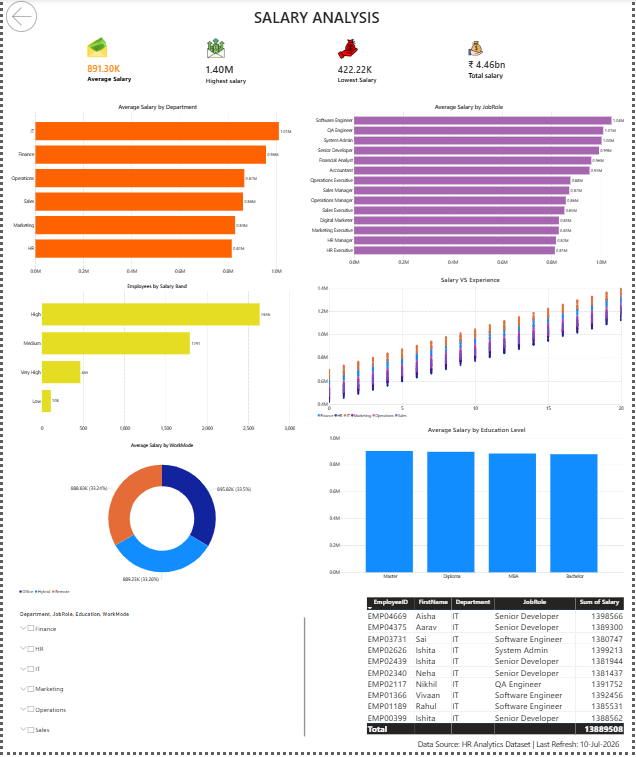

What the dashboard file says about the page in this screenshot:
{"tool":"powerbi","page":{"name":"Salary Analysis","canvas":[4000,4800],"ordinal":2},"visuals":[{"type":"textbox","box":[604,47,2792,173.9],"z":0},{"type":"cardVisual","fields":{"Data":["Employees.Average Salary"]},"box":[510.4,223.3,569.3,348.7],"z":0,"group":"g1"},{"type":"group","id":"g1","title":"Group 1","box":[510.4,221,2979.1,360.1],"z":1000},{"type":"cardVisual","fields":{"Data":["Employees.Highest salary"]},"box":[1260.5,234.1,571.9,347],"z":1000,"group":"g1"},{"type":"cardVisual","fields":{"Data":["Employees.Lowest Salary"]},"box":[2101.2,231,567,347],"z":2000,"group":"g1"},{"type":"clusteredBarChart","fields":{"Category":["Employees.Department"],"Y":["Employees.Average Salary"]},"box":[34.2,664.8,1891.6,1099.8],"z":2000},{"type":"cardVisual","fields":{"Data":["Employees.Total salary"]},"box":[2920.5,221,569,351.9],"z":3000,"group":"g1"},{"type":"clusteredBarChart","fields":{"Category":["Employees.JobRole"],"Y":["Employees.Average Salary"]},"box":[1925.9,664.8,2072.5,1041.1],"z":3000},{"type":"clusteredBarChart","title":"Employees by Salary Band","fields":{"Category":["Employees.SalaryBand"],"Y":["CountNonNull(Employees.EmployeeID)"]},"box":[92.9,1818.3,1769.5,953.2],"z":4000},{"type":"scatterChart","title":"Salary VS Experience","fields":{"Series":["Employees.Department"],"Category":["Employees.EmployeeID"],"X":["Sum(Employees.Experience)"],"Y":["Sum(Employees.Salary)"]},"box":[1994.3,1764.6,1960.1,914.1],"z":5000},{"type":"tableEx","fields":{"Values":["Employees.EmployeeID","Employees.FirstName","Employees.Department","Employees.JobRole","Sum(Employees.Salary)"]},"box":[2307.1,3807.7,1647.3,992.3],"z":6000},{"type":"columnChart","title":"Average Salary by Education Level","fields":{"Category":["Employees.Education"],"Y":["Employees.Average Salary"]},"box":[2067.6,2717.7,1886.8,987.4],"z":7000},{"type":"donutChart","fields":{"Category":["Employees.WorkMode"],"Y":["Employees.Average Salary"]},"box":[92.9,2830.1,1833,977.6],"z":8000},{"type":"slicer","fields":{"Values":["Employees.Department","Employees.JobRole","Employees.Education","Employees.WorkMode"]},"box":[92.9,3895.7,1833,821.2],"z":9000},{"type":"textbox","box":[2557,4709.8,1443,89.3],"z":9001},{"type":"actionButton","box":[0,0,277.3,235],"z":9002}]}

Visuals, with their boxes in screenshot pixels (x1, y1, x2, y2), scaled from the page's 4000x4800 canvas onto the 636x757 screenshot:
textbox: 96,7,540,35
cardVisual - Employees.Average Salary: 81,35,172,90
"Group 1" group: 81,35,555,92
cardVisual - Employees.Highest salary: 200,37,291,92
cardVisual - Employees.Lowest Salary: 334,36,424,91
clusteredBarChart - Employees.Department x Employees.Average Salary: 5,105,306,278
cardVisual - Employees.Total salary: 464,35,555,90
clusteredBarChart - Employees.JobRole x Employees.Average Salary: 306,105,635,269
"Employees by Salary Band" clusteredBarChart: 15,287,296,437
"Salary VS Experience" scatterChart: 317,278,629,422
tableEx - Employees.EmployeeID x Employees.FirstName: 367,601,629,756
"Average Salary by Education Level" columnChart: 329,429,629,584
donutChart - Employees.WorkMode x Employees.Average Salary: 15,446,306,601
slicer - Employees.Department x Employees.JobRole: 15,614,306,744
textbox: 407,743,635,756
actionButton: 0,0,44,37
